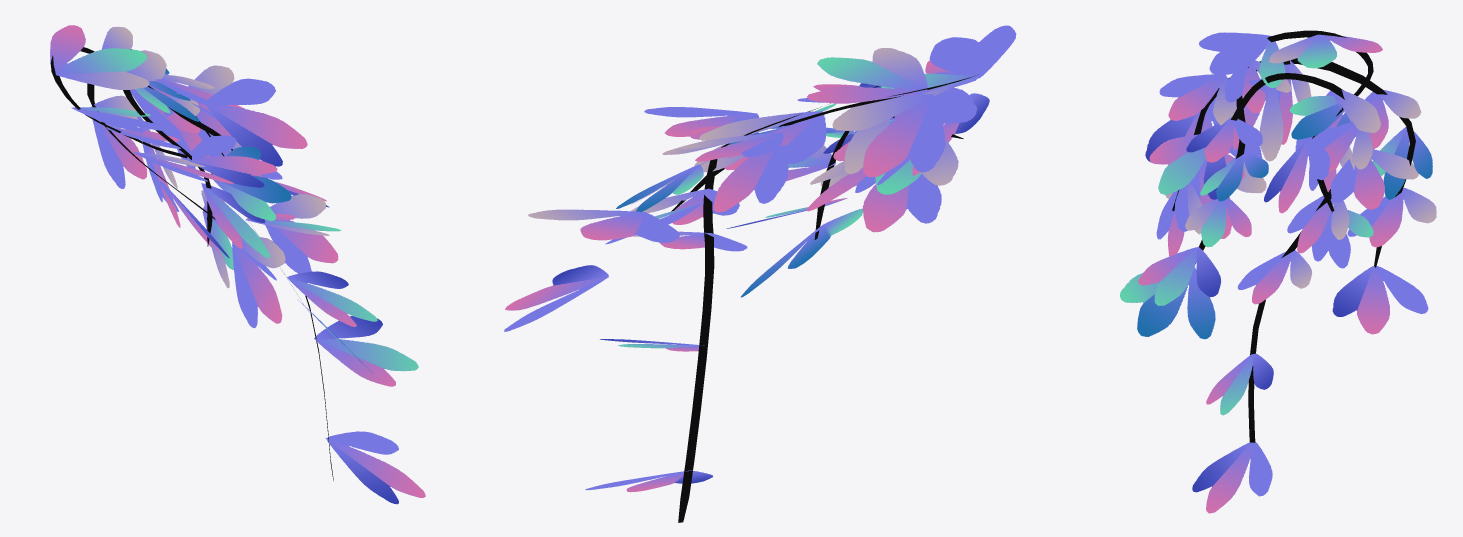
File: SM_ivy_O_round_A.FBX
3 renders of one model, left to right at view 1: azimuth 30°, elevation 25°; view 2: azimuth 150°, elevation 25°; view 3: azimuth 270°, elevation 25°, orthographic. The views are drawn at different scales.
Parts seen in each view (by area): view 1: SM_ivy_O_round_A; view 2: SM_ivy_O_round_A; view 3: SM_ivy_O_round_A.
Boxes of the visible parts, box(x1,y1,x2,y2) form: SM_ivy_O_round_A: box(50, 25, 425, 504); SM_ivy_O_round_A: box(504, 25, 1016, 522); SM_ivy_O_round_A: box(1120, 30, 1436, 513).
Bounding box in the file's own units: 148 × 172 × 145.
Materials: 2 (1 with a texture image).
